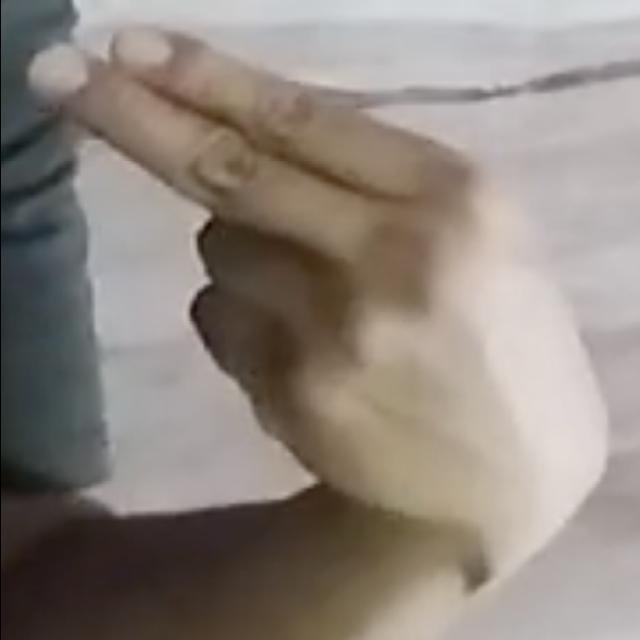N: (13, 11, 620, 574)
